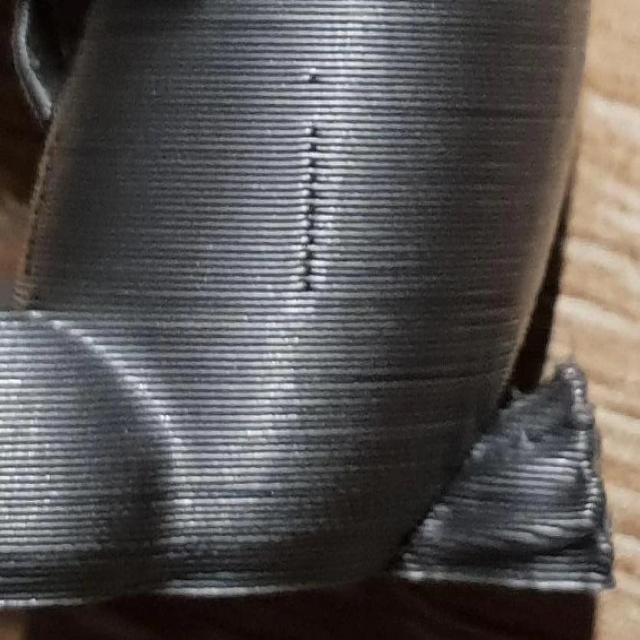cracks: (293, 120, 329, 301), (303, 64, 323, 89)
